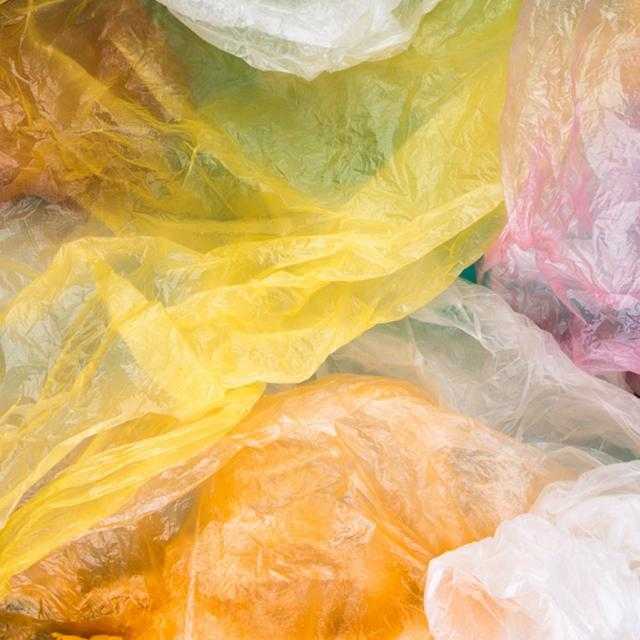Single-layer Plastic: (0, 0, 520, 559), (0, 374, 572, 640), (479, 0, 640, 391), (318, 279, 640, 474), (425, 460, 640, 640), (158, 1, 439, 80)
